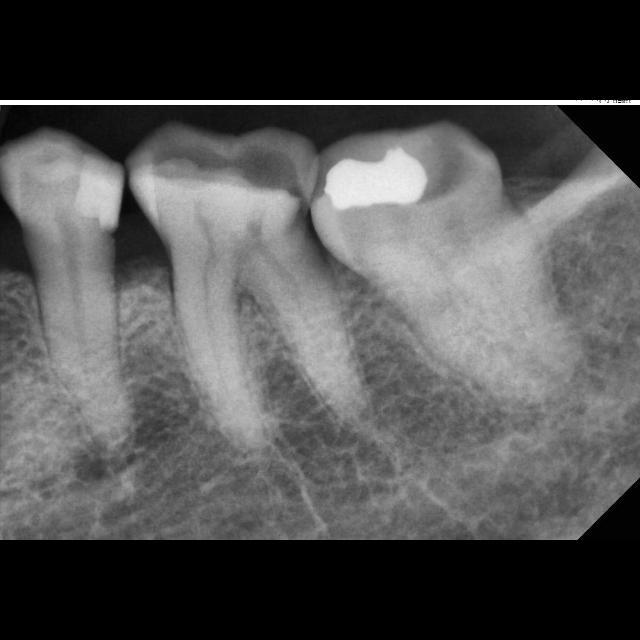teeth: (0, 128, 130, 450)
